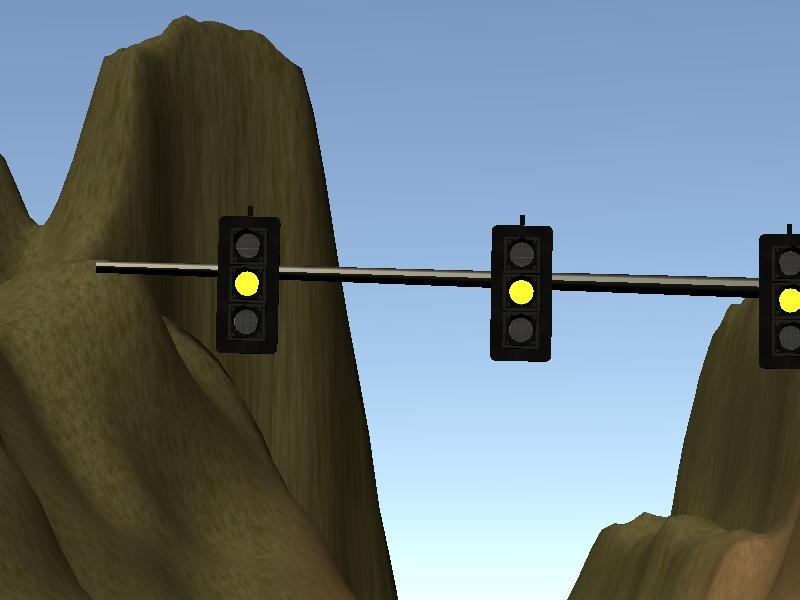YELLOW: (212, 205, 278, 353), (488, 215, 554, 363), (759, 221, 800, 372)
